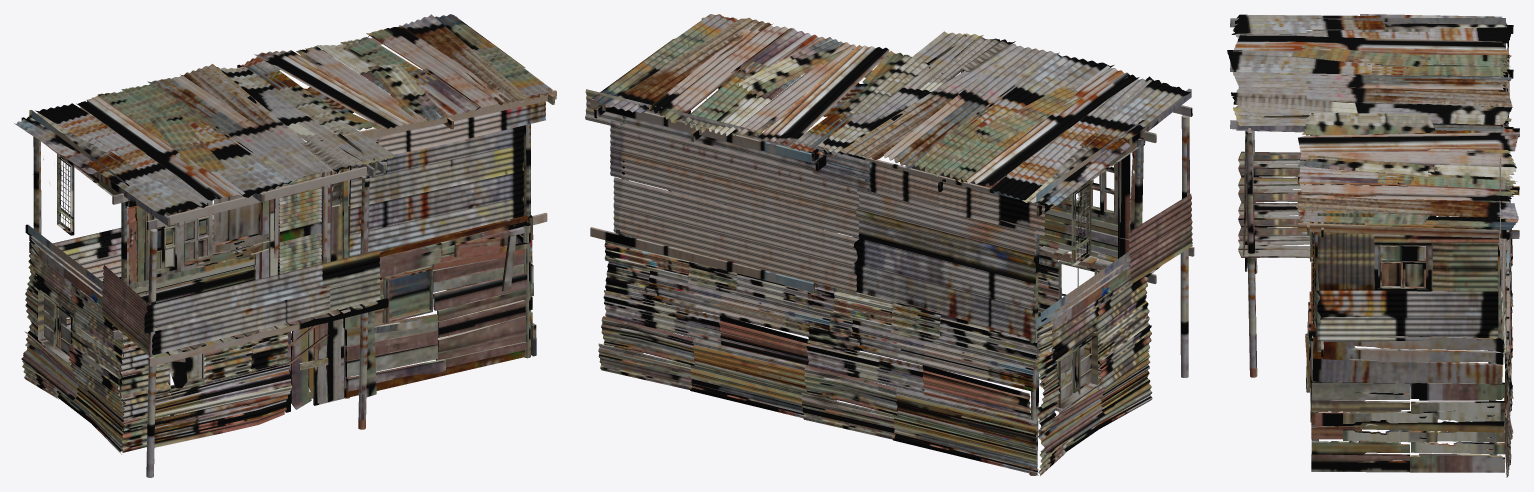
File: Hut.gltf
3 renders of one model, left to right at view 1: azimuth 30°, elevation 25°; view 2: azimuth 150°, elevation 25°; view 3: azimuth 270°, elevation 25°, orthographic. The views are drawn at different scales.
Visible parts, largest first — view 1: D1; view 2: D1; view 3: D1.
Part boxes in pixels (x1,y1,x2,y2): D1: (14,14,556,477); D1: (585,14,1194,475); D1: (1227,14,1519,477).
Size of the model in its own units: 2.17 by 1.26 by 1.25.
1 material, 1 textured.
